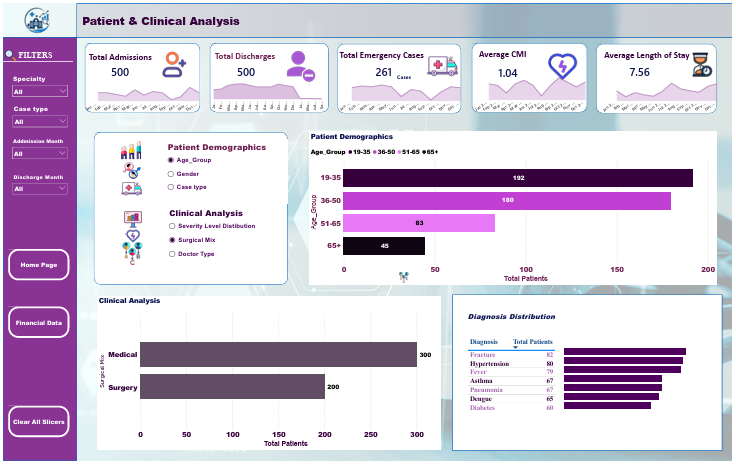

The page's visual inventory and layout, read from the dashboard file:
{"tool":"powerbi","page":{"name":"Page 2","canvas":[2150,1350],"ordinal":1},"visuals":[{"type":"shape","box":[0,100,205.6,1300],"z":0},{"type":"shape","box":[0,100,216.7,1250],"z":1000},{"type":"shape","box":[216.7,0,2083.3,100],"z":2000},{"type":"shape","box":[1326.7,860,796.7,460],"z":3000},{"type":"shape","box":[267.5,380,572.5,450],"z":4000},{"type":"shape","box":[1751.4,118.6,355,205],"z":5000},{"type":"textbox","box":[227.5,22.5,547.5,55],"z":6000},{"type":"barChart","title":"Patient Demographics","fields":{"Series":["Government_Hospital_Operations_Dataset_Project.Age_Group"],"Category":["Government_Hospital_Operations_Dataset_Project.Age_Group"],"Y":["Government_Hospital_Operations_Dataset_Project.Total Patients"]},"box":[903.3,376.7,1203.3,453.3],"z":7000},{"type":"barChart","title":"Diagnosis Distribution","fields":{"Y":["Government_Hospital_Operations_Dataset_Project.Total Patients"],"Category":["Government_Hospital_Operations_Dataset_Project.Diagnosis"]},"box":[1630,1003.3,476.7,196.7],"z":8000},{"type":"slicer","fields":{"Values":["Government_Hospital_Operations_Dataset_Project.Case type"]},"box":[17.8,292.2,182.2,200],"z":9000},{"type":"cardVisual","fields":{"Data":["Government_Hospital_Operations_Dataset_Project.Average Stay Days"]},"box":[1820,160.8,122.9,74.3],"z":10000},{"type":"shape","box":[241.4,117.1,340,204.3],"z":11000},{"type":"shape","box":[610,117,351,204],"z":12000},{"type":"shape","box":[1384.3,117.1,340,204.3],"z":13000},{"type":"shape","box":[987.1,118.6,365,205],"z":14000},{"type":"textbox","box":[247.5,137.5,204.3,50],"z":15000},{"type":"textbox","box":[619.6,135.4,204.3,50],"z":16000},{"type":"textbox","box":[1770,130,267.1,50],"z":17000},{"type":"textbox","box":[987.5,130,270,50],"z":18000},{"type":"textbox","box":[1400,129.1,204.3,50],"z":19000},{"type":"cardVisual","fields":{"Data":["Government_Hospital_Operations_Dataset_Project.Average CMI value"]},"box":[1432.9,167.7,118.6,68.6],"z":20000},{"type":"cardVisual","fields":{"Data":["Government_Hospital_Operations_Dataset_Project.Emergency cases"]},"box":[1070,162.9,107.1,74.3],"z":21000},{"type":"cardVisual","fields":{"Data":["Government_Hospital_Operations_Dataset_Project.Total Patients"]},"box":[288.6,162.9,122.9,74.3],"z":22000},{"type":"cardVisual","fields":{"Data":["Government_Hospital_Operations_Dataset_Project.Total Patients"]},"box":[661,161.1,122.9,74.3],"z":23000},{"type":"textbox","box":[1157.7,200.2,72.9,32.9],"z":24000},{"type":"areaChart","fields":{"Y":["Government_Hospital_Operations_Dataset_Project.Total Admissions"],"Category":["Government_Hospital_Operations_Dataset_Project.Addmission Month"]},"box":[228.6,220,365.7,111.4],"z":25000},{"type":"areaChart","fields":{"Y":["Government_Hospital_Operations_Dataset_Project.Average Stay Days"],"Category":["Government_Hospital_Operations_Dataset_Project.Addmission Month"]},"box":[1760.8,209.2,362.9,122.9],"z":26000},{"type":"areaChart","fields":{"Y":["Government_Hospital_Operations_Dataset_Project.Average CMI value"],"Category":["Government_Hospital_Operations_Dataset_Project.Addmission Month"]},"box":[1384.3,203.4,350,127.1],"z":27000},{"type":"areaChart","fields":{"Y":["Government_Hospital_Operations_Dataset_Project.Emergency cases"],"Category":["Government_Hospital_Operations_Dataset_Project.Addmission Month"]},"box":[977.5,219.2,389.2,110.8],"z":28000},{"type":"areaChart","fields":{"Category":["Government_Hospital_Operations_Dataset_Project.Discharge Month"],"Y":["CountNonNull(Government_Hospital_Operations_Dataset_Project.Patient_ID)"]},"box":[599,213,355,115],"z":29000},{"type":"image","box":[10,0,182.9,100],"z":30000},{"type":"tableEx","fields":{"Values":["Government_Hospital_Operations_Dataset_Project.Diagnosis","Government_Hospital_Operations_Dataset_Project.Total Patients"]},"box":[1366.7,980.2,288.6,254.3],"z":31000},{"type":"textbox","box":[1366.7,903.5,362.9,48.6],"z":32000},{"type":"barChart","title":"Clinical Analysis","fields":{"Category":["Government_Hospital_Operations_Dataset_Project.Surgical Mix"],"Y":["Government_Hospital_Operations_Dataset_Project.Total Patients"]},"box":[276.7,863.3,1013.3,453.3],"z":33000},{"type":"slicer","fields":{"Values":["Government_Hospital_Operations_Dataset_Project.Specialty"]},"box":[15.8,201.7,185,130],"z":34000},{"type":"textbox","box":[40,135,126,40],"z":35000},{"type":"shape","box":[0,162.2,205.6,17.8],"z":36000},{"type":"image","box":[0,136.7,41.1,30],"z":37000},{"type":"actionButton","box":[15,895,180,92],"z":38000},{"type":"actionButton","box":[15,1187.5,180,92],"z":39000},{"type":"actionButton","box":[15,725,180,92],"z":40000},{"type":"image","box":[824.2,138.2,110,95],"z":41000},{"type":"image","box":[452.5,135,100,90],"z":42000},{"type":"image","box":[1252.7,139.8,90,90],"z":43000},{"type":"image","box":[1605.7,139.1,92.5,92.5],"z":44000},{"type":"image","box":[2021.7,142.5,85,75],"z":45000},{"type":"slicer","fields":{"Values":["Patient Demographics.Patient Demographics"]},"box":[472.9,400,367.1,190],"z":46000},{"type":"slicer","fields":{"Values":["Clinical Analysis.Clinical Analysis"]},"box":[476.7,596.7,296.7,173.3],"z":47000},{"type":"image","box":[336.7,516.7,86.7,60],"z":48000},{"type":"image","box":[355,665,55.7,42.9],"z":49000},{"type":"image","box":[350,402.5,59,60],"z":50000},{"type":"image","box":[340,462.5,80,60],"z":51000},{"type":"image","box":[1165,792.5,36,32],"z":52000},{"type":"image","box":[331.4,704.3,100,66.7],"z":53000},{"type":"image","box":[350,611.4,65.7,52.9],"z":54000},{"type":"slicer","fields":{"Values":["Government_Hospital_Operations_Dataset_Project.Addmission Month"]},"box":[16,392,183.3,213.3],"z":55000},{"type":"slicer","fields":{"Values":["Government_Hospital_Operations_Dataset_Project.Discharge Month"]},"box":[17,495,182.2,172.2],"z":56000}]}

Visuals, with their boxes in screenshot pixels (x1, y1, x2, y2), scaled from the page's 2150x1350 canvas onto the 736x466 screenshot:
shape: <box>0,35,70,465</box>
shape: <box>0,35,74,465</box>
shape: <box>74,0,735,35</box>
shape: <box>454,297,727,456</box>
shape: <box>92,131,288,287</box>
shape: <box>600,41,721,112</box>
textbox: <box>78,8,265,27</box>
"Patient Demographics" barChart: <box>309,130,721,287</box>
"Diagnosis Distribution" barChart: <box>558,346,721,414</box>
slicer - Government_Hospital_Operations_Dataset_Project.Case type: <box>6,101,68,170</box>
cardVisual - Government_Hospital_Operations_Dataset_Project.Average Stay Days: <box>623,56,665,81</box>
shape: <box>83,40,199,111</box>
shape: <box>209,40,329,111</box>
shape: <box>474,40,590,111</box>
shape: <box>338,41,463,112</box>
textbox: <box>85,47,155,65</box>
textbox: <box>212,47,282,64</box>
textbox: <box>606,45,697,62</box>
textbox: <box>338,45,430,62</box>
textbox: <box>479,45,549,62</box>
cardVisual - Government_Hospital_Operations_Dataset_Project.Average CMI value: <box>491,58,531,82</box>
cardVisual - Government_Hospital_Operations_Dataset_Project.Emergency cases: <box>366,56,403,82</box>
cardVisual - Government_Hospital_Operations_Dataset_Project.Total Patients: <box>99,56,141,82</box>
cardVisual - Government_Hospital_Operations_Dataset_Project.Total Patients: <box>226,56,268,81</box>
textbox: <box>396,69,421,80</box>
areaChart - Government_Hospital_Operations_Dataset_Project.Total Admissions x Government_Hospital_Operations_Dataset_Project.Addmission Month: <box>78,76,203,114</box>
areaChart - Government_Hospital_Operations_Dataset_Project.Average Stay Days x Government_Hospital_Operations_Dataset_Project.Addmission Month: <box>603,72,727,115</box>
areaChart - Government_Hospital_Operations_Dataset_Project.Average CMI value x Government_Hospital_Operations_Dataset_Project.Addmission Month: <box>474,70,594,114</box>
areaChart - Government_Hospital_Operations_Dataset_Project.Emergency cases x Government_Hospital_Operations_Dataset_Project.Addmission Month: <box>335,76,468,114</box>
areaChart - Government_Hospital_Operations_Dataset_Project.Discharge Month x CountNonNull(Government_Hospital_Operations_Dataset_Project.Patient_ID): <box>205,74,327,113</box>
image: <box>3,0,66,35</box>
tableEx - Government_Hospital_Operations_Dataset_Project.Diagnosis x Government_Hospital_Operations_Dataset_Project.Total Patients: <box>468,338,567,426</box>
textbox: <box>468,312,592,329</box>
"Clinical Analysis" barChart: <box>95,298,442,454</box>
slicer - Government_Hospital_Operations_Dataset_Project.Specialty: <box>5,70,69,114</box>
textbox: <box>14,47,57,60</box>
shape: <box>0,56,70,62</box>
image: <box>0,47,14,58</box>
actionButton: <box>5,309,67,341</box>
actionButton: <box>5,410,67,442</box>
actionButton: <box>5,250,67,282</box>
image: <box>282,48,320,80</box>
image: <box>155,47,189,78</box>
image: <box>429,48,460,79</box>
image: <box>550,48,581,80</box>
image: <box>692,49,721,75</box>
slicer - Patient Demographics.Patient Demographics: <box>162,138,288,204</box>
slicer - Clinical Analysis.Clinical Analysis: <box>163,206,265,266</box>
image: <box>115,178,145,199</box>
image: <box>122,230,141,244</box>
image: <box>120,139,140,160</box>
image: <box>116,160,144,180</box>
image: <box>399,274,411,285</box>
image: <box>113,243,148,266</box>
image: <box>120,211,142,229</box>
slicer - Government_Hospital_Operations_Dataset_Project.Addmission Month: <box>5,135,68,209</box>
slicer - Government_Hospital_Operations_Dataset_Project.Discharge Month: <box>6,171,68,230</box>
